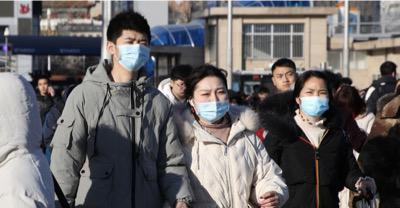with_mask: (192, 85, 229, 123), (113, 33, 150, 70), (297, 86, 331, 119)
without_mask: (274, 69, 295, 91), (172, 79, 186, 97), (36, 79, 46, 94)
